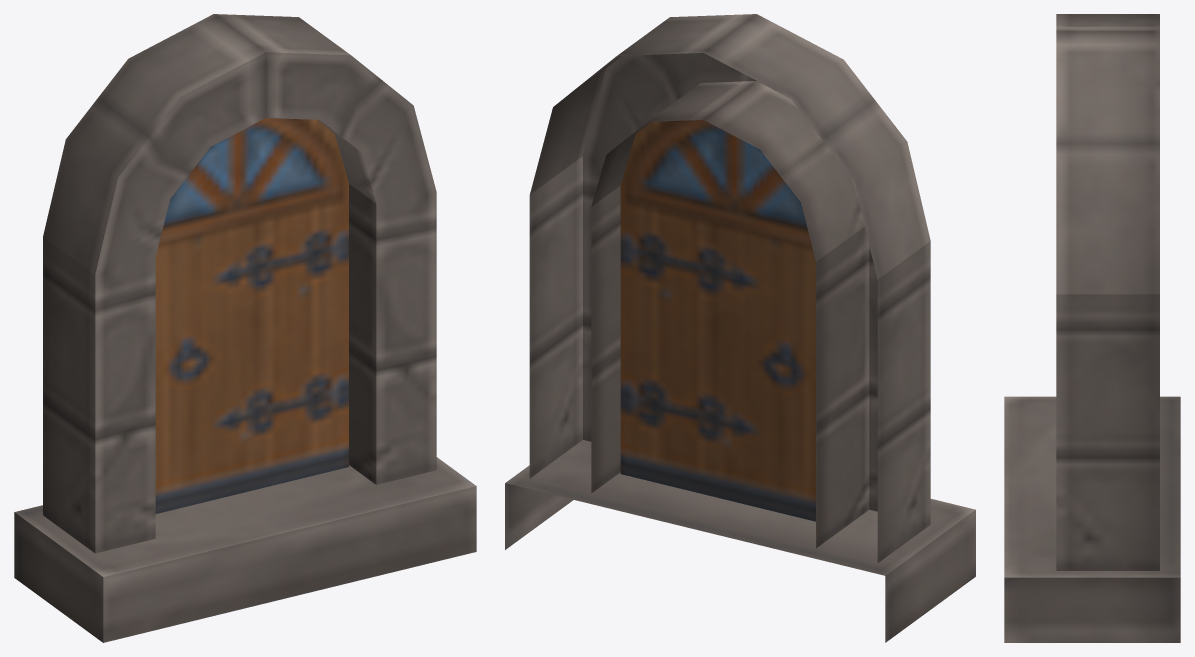
Rendered from paran_house_door.FBX.
3 views of the same model, side by side, from view 1: azimuth 30°, elevation 25°; view 2: azimuth 150°, elevation 25°; view 3: azimuth 270°, elevation 25° (orthographic). The views are drawn at different scales.
Parts seen in each view (by area): view 1: Object135; view 2: Object135; view 3: Object135.
Part boxes in pixels (x1,y1,x2,y2): Object135: (14,14,476,642); Object135: (505,14,975,642); Object135: (1004,14,1180,642).
Bounding box in the file's own units: 35.43 × 47.67 × 14.6.
